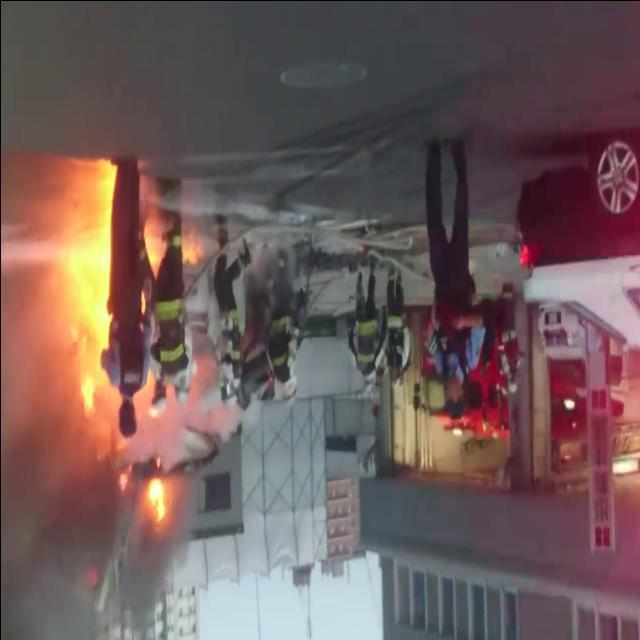Fire: (48, 156, 112, 422), (141, 476, 166, 528), (142, 233, 162, 267), (181, 250, 199, 274)
